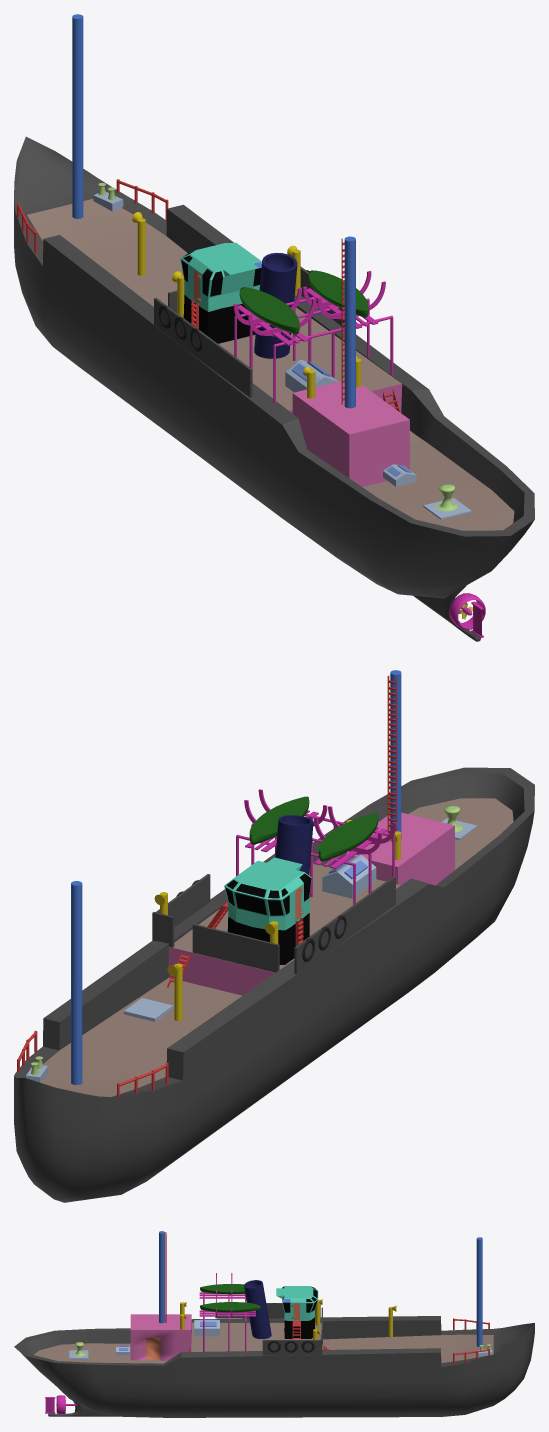
Rendered from schiff_final.fbx.
The picture shows the model from 3 angles, top to bottom: view 1: azimuth 30°, elevation 25°; view 2: azimuth 150°, elevation 25°; view 3: azimuth 270°, elevation 25°; orthographic projection. The views are drawn at different scales.
Parts seen in each view (by area): view 1: polySurface562, polySurface445, polySurface463, polySurface592, pCube74, polySurface496, polySurface354, polySurface471, polySurface437, polySurface601, polySurface432, group1_pasted__tugboat_prop3_pasted__polySurface506 (+2 smaller); view 2: polySurface562, polySurface463, polySurface592, polySurface445, pCube74, pCube73, polySurface496, polySurface354, polySurface437, polySurface595, polySurface441, polySurface471 (+5 smaller); view 3: polySurface562, polySurface445, polySurface463, polySurface592, polySurface354, polySurface496, pCube71, polySurface432, polySurface471, polySurface441, pCube74, polySurface437 (+3 smaller).
Part boxes in pixels (left/top/right/bottom): polySurface562: left=14, top=136, right=534, bottom=641; polySurface445: left=292, top=381, right=409, bottom=486; polySurface463: left=218, top=307, right=402, bottom=413; polySurface592: left=180, top=242, right=261, bottom=343; pCube74: left=154, top=297, right=252, bottom=397; polySurface496: left=72, top=14, right=83, bottom=218; polySurface354: left=254, top=252, right=297, bottom=358; polySurface471: left=344, top=236, right=355, bottom=408; polySurface437: left=239, top=287, right=299, bottom=334; polySurface601: left=233, top=271, right=385, bottom=336; polySurface432: left=308, top=270, right=368, bottom=317; group1_pasted__tugboat_prop3_pasted__polySurface506: left=449, top=593, right=485, bottom=637; polySurface562: left=14, top=767, right=534, bottom=1202; polySurface463: left=168, top=863, right=403, bottom=995; polySurface592: left=224, top=857, right=311, bottom=964; polySurface445: left=337, top=812, right=454, bottom=885; pCube74: left=294, top=876, right=395, bottom=974; pCube73: left=192, top=924, right=279, bottom=972; polySurface496: left=71, top=881, right=82, bottom=1084; polySurface354: left=275, top=815, right=313, bottom=875; polySurface437: left=318, top=813, right=378, bottom=861; polySurface595: left=225, top=873, right=311, bottom=915; polySurface441: left=322, top=854, right=376, bottom=898; polySurface471: left=390, top=670, right=401, bottom=839; polySurface562: left=14, top=1316, right=534, bottom=1417; polySurface445: left=130, top=1314, right=191, bottom=1360; polySurface463: left=191, top=1322, right=321, bottom=1351; polySurface592: left=276, top=1286, right=318, bottom=1338; polySurface354: left=244, top=1280, right=271, bottom=1338; polySurface496: left=476, top=1237, right=482, bottom=1346; pCube71: left=262, top=1340, right=320, bottom=1355; polySurface432: left=200, top=1302, right=260, bottom=1312; polySurface471: left=159, top=1231, right=164, bottom=1323; polySurface441: left=194, top=1319, right=219, bottom=1336; pCube74: left=215, top=1303, right=320, bottom=1318; polySurface437: left=200, top=1284, right=245, bottom=1294.
Bounding box in the file's own units: 131 × 281 × 746.
